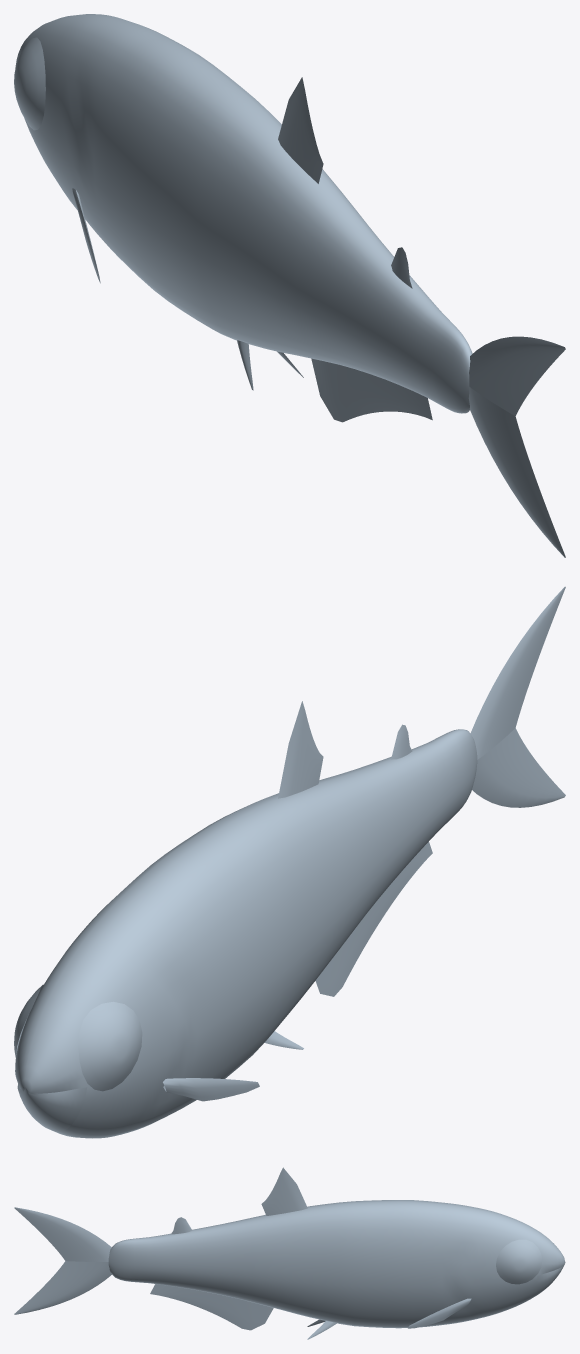
The model's file is cardinal_tetra.glb.
The picture shows the model from 3 angles, top to bottom: view 1: azimuth 30°, elevation 25°; view 2: azimuth 150°, elevation 25°; view 3: azimuth 270°, elevation 25°; orthographic projection. The views are drawn at different scales.
Parts seen in each view (by area): view 1: cardinal_tetra; view 2: cardinal_tetra; view 3: cardinal_tetra.
Part boxes in pixels (x1,y1,x2,y2): cardinal_tetra: (14,14,565,557); cardinal_tetra: (14,586,565,1138); cardinal_tetra: (14,1167,565,1339).
Size of the model in its own units: 0.00713 by 0.0139 by 0.0419.
